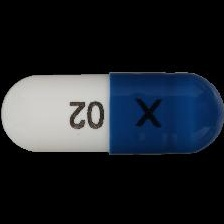61786-568: (0, 0, 224, 224)
